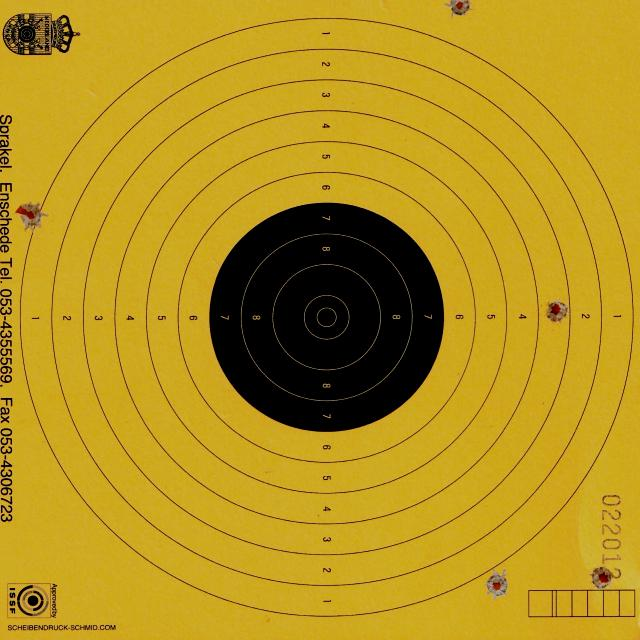0: (484, 572, 512, 598), (589, 564, 611, 589), (448, 0, 474, 19)
1: (15, 203, 42, 229)
3: (545, 300, 570, 324)
Target: (18, 18, 636, 618)
black_contour: (209, 202, 444, 432)
